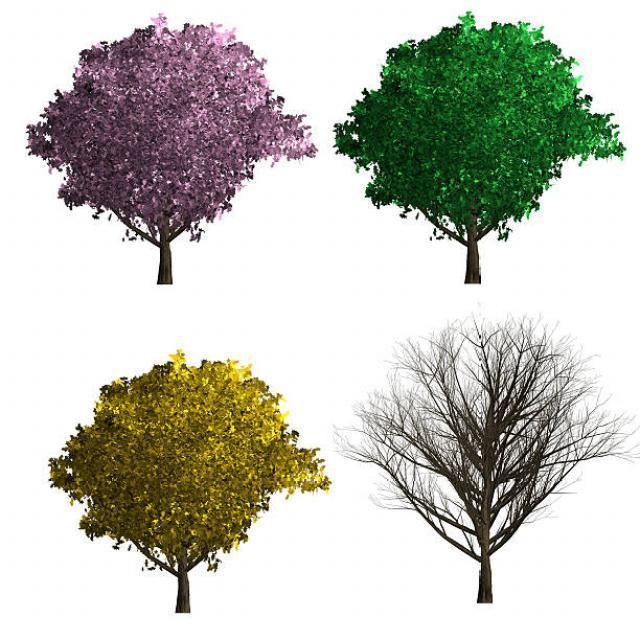tree: (340, 294, 632, 596), (22, 10, 314, 286), (332, 11, 616, 275), (48, 343, 320, 605)
